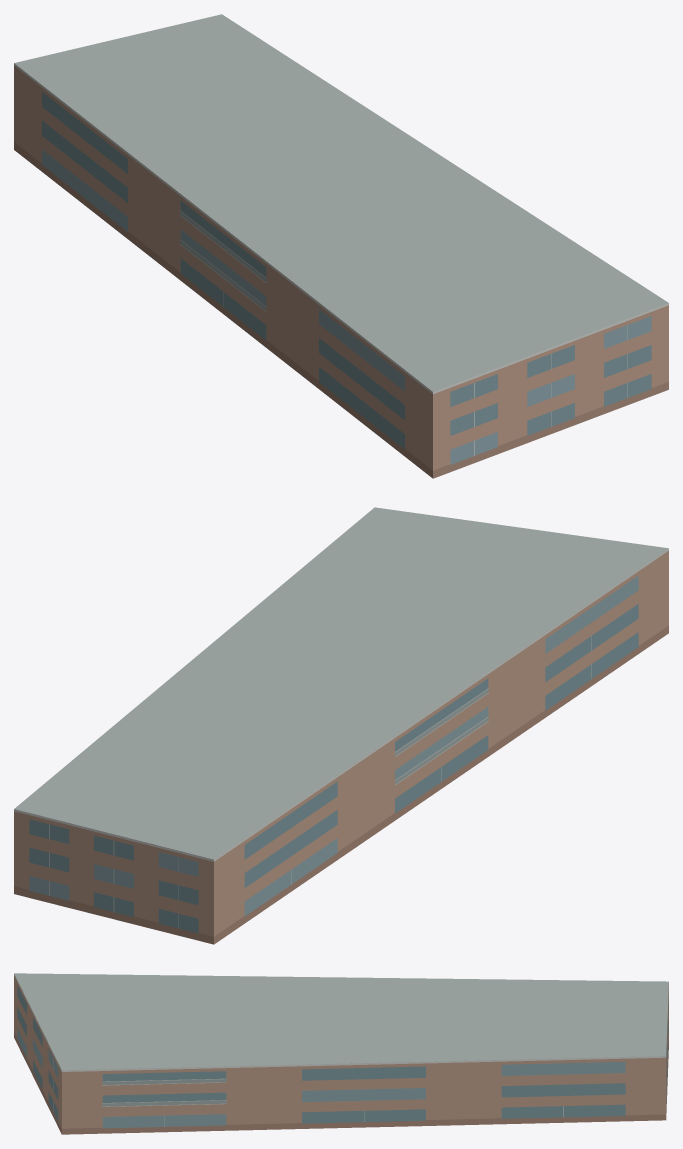
Rendered from survey-upis-32469650.glb.
3 views of the same model, one above another, from view 1: azimuth 30°, elevation 25°; view 2: azimuth 150°, elevation 25°; view 3: azimuth 270°, elevation 25° (orthographic). The views are drawn at different scales.
Parts seen in each view (by area): view 1: survey-upis-32469650.tmp; view 2: survey-upis-32469650.tmp; view 3: survey-upis-32469650.tmp.
Boxes of the visible parts, left/top/right/bottom form: survey-upis-32469650.tmp: left=14, top=14, right=668, bottom=478; survey-upis-32469650.tmp: left=14, top=507, right=668, bottom=944; survey-upis-32469650.tmp: left=14, top=973, right=668, bottom=1134.
Bounding box in the file's own units: 29.6 × 9.15 × 84.43.
